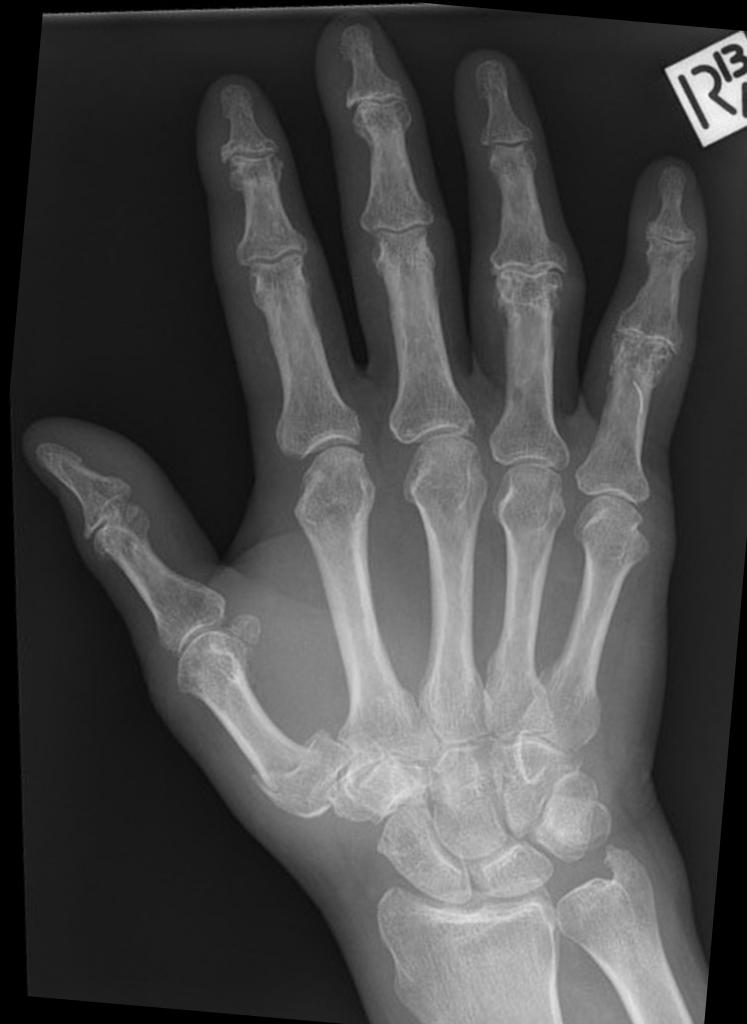fracture: (484, 246, 578, 320), (250, 722, 323, 808), (600, 324, 682, 386), (116, 502, 149, 537)
